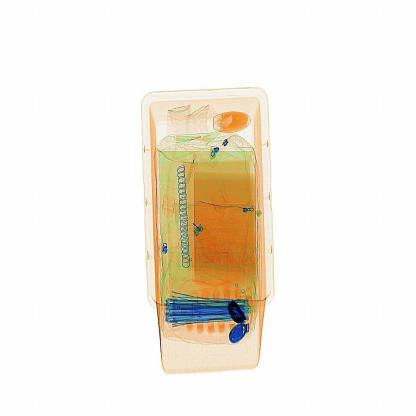scissors: (228, 299, 248, 323)
